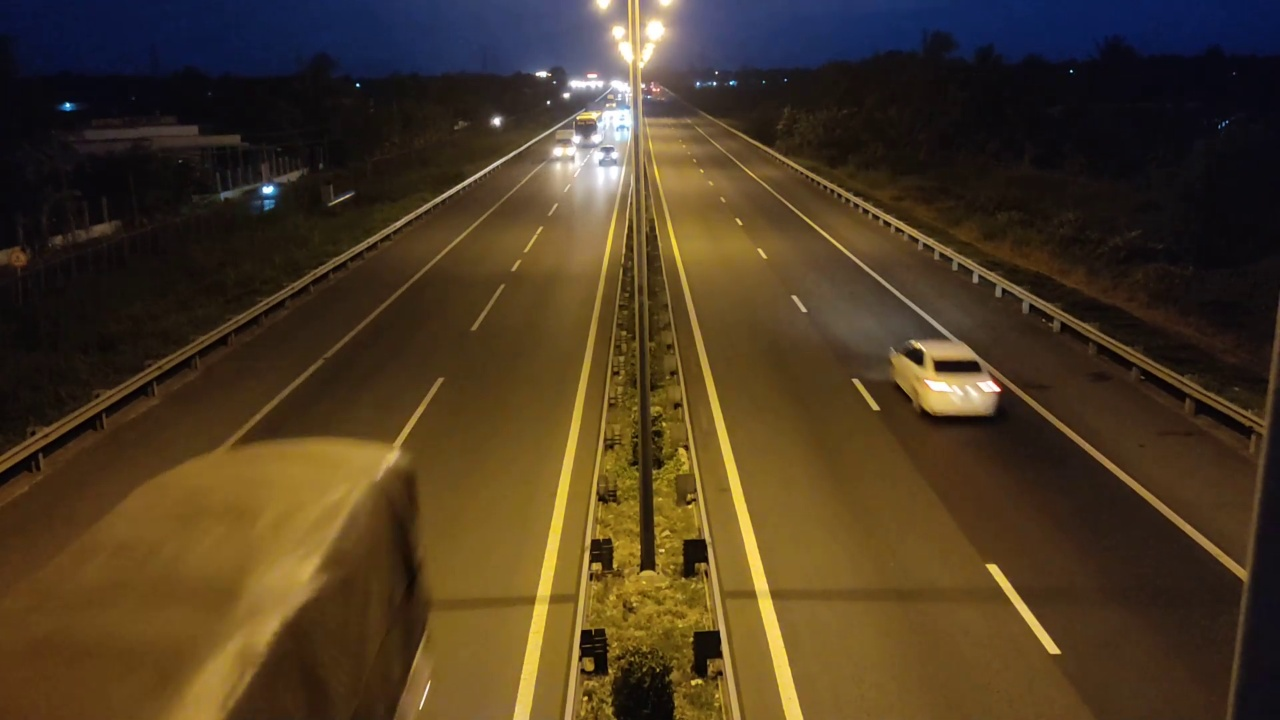car: (887, 336, 1003, 418)
